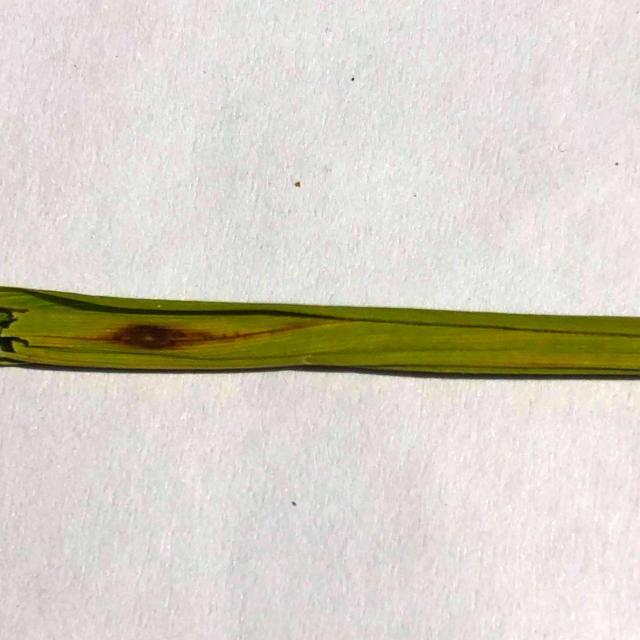Blast: (104, 324, 226, 346)
